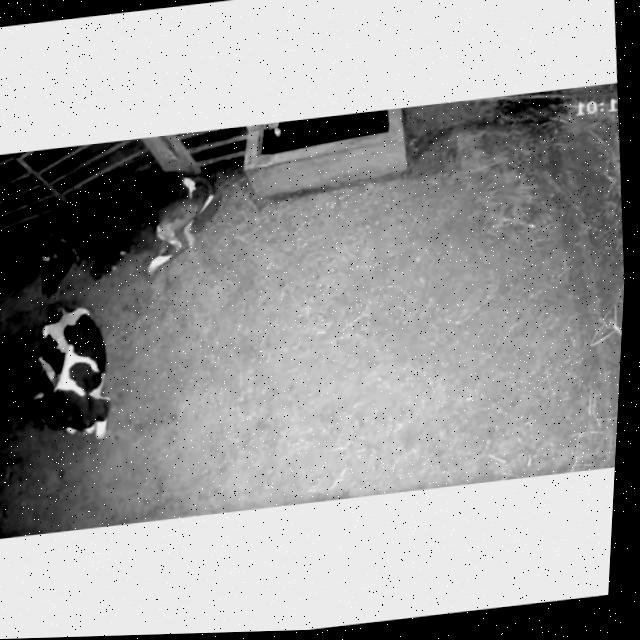lay: (0, 156, 234, 305), (7, 290, 140, 462)
